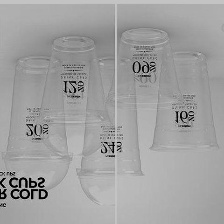glass: (71, 52, 155, 212), (33, 28, 115, 162), (1, 48, 74, 196), (147, 47, 223, 159), (102, 22, 186, 119)
